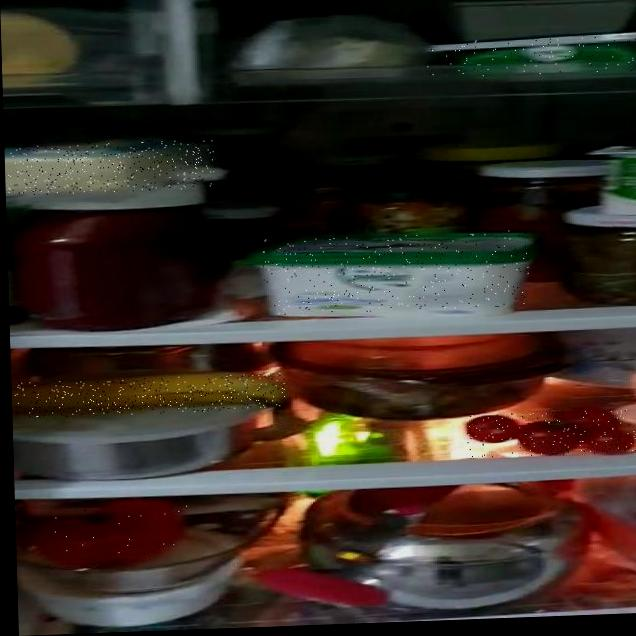banana: (14, 373, 289, 419)
cheese: (263, 230, 531, 315), (7, 138, 215, 196)
cream cheese: (426, 34, 636, 78)
tomato: (46, 502, 190, 563), (467, 409, 636, 458)
